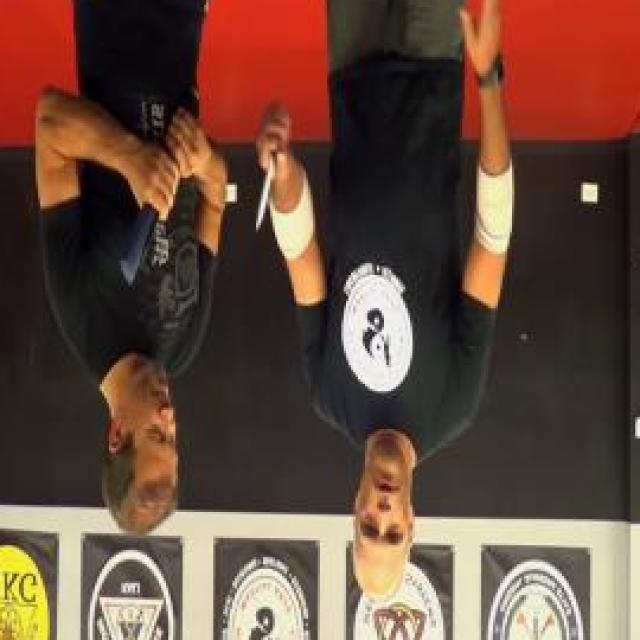knife: (252, 100, 296, 242)
